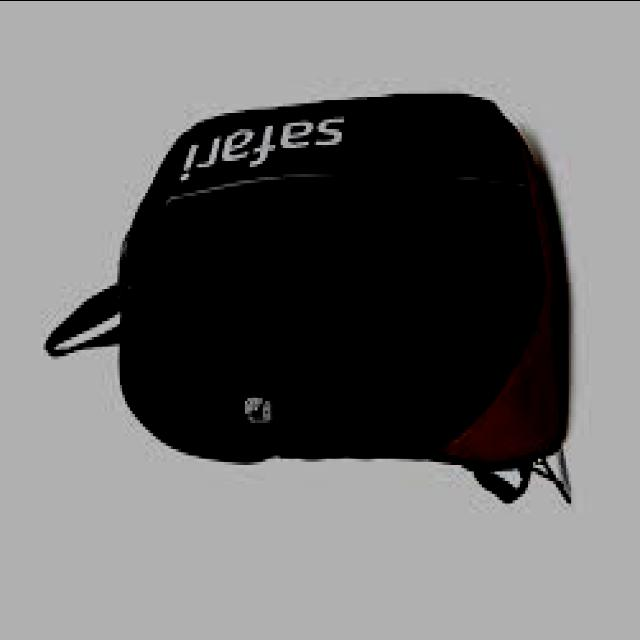backpack: (42, 94, 570, 507)
